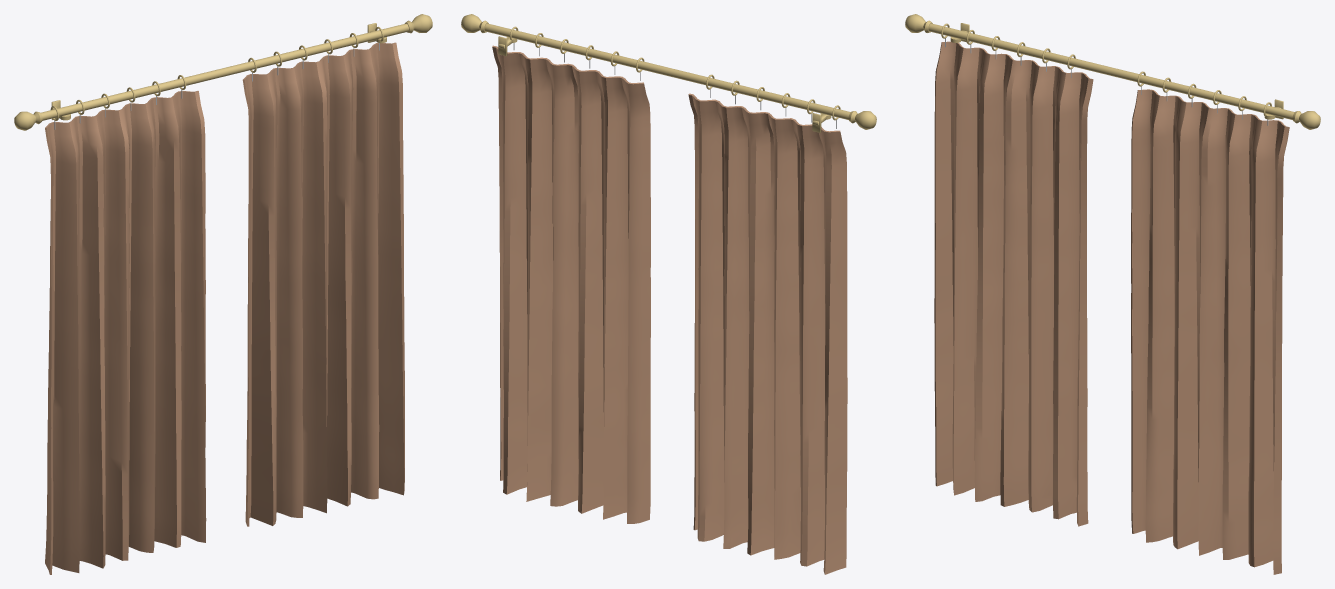
Rendered from textiles_curtain_pair.fbx.
3 views of the same model, side by side, from view 1: azimuth 30°, elevation 25°; view 2: azimuth 150°, elevation 25°; view 3: azimuth 330°, elevation 25° (orthographic).
Parts seen in each view (by area): view 1: curtain_L, curtain_R, rod; view 2: curtain_L, curtain_R, rod; view 3: curtain_L, curtain_R, rod.
Boxes of the visible parts, x1,y1,x2,y2 form: curtain_L: [45, 91, 206, 574]; curtain_R: [242, 42, 404, 526]; rod: [14, 14, 432, 130]; curtain_L: [688, 93, 847, 574]; curtain_R: [492, 45, 650, 523]; rod: [461, 14, 876, 132]; curtain_L: [934, 41, 1093, 526]; curtain_R: [1131, 89, 1289, 574]; rod: [905, 14, 1320, 129].
Size of the model in its own units: 1.48 by 1.58 by 0.1253.
